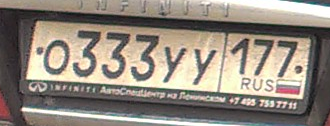character: (131, 31, 160, 85), (102, 30, 131, 83), (73, 28, 102, 80), (188, 46, 218, 89), (41, 38, 72, 77), (251, 36, 276, 80), (162, 44, 187, 87), (229, 36, 251, 79), (277, 37, 298, 79)
